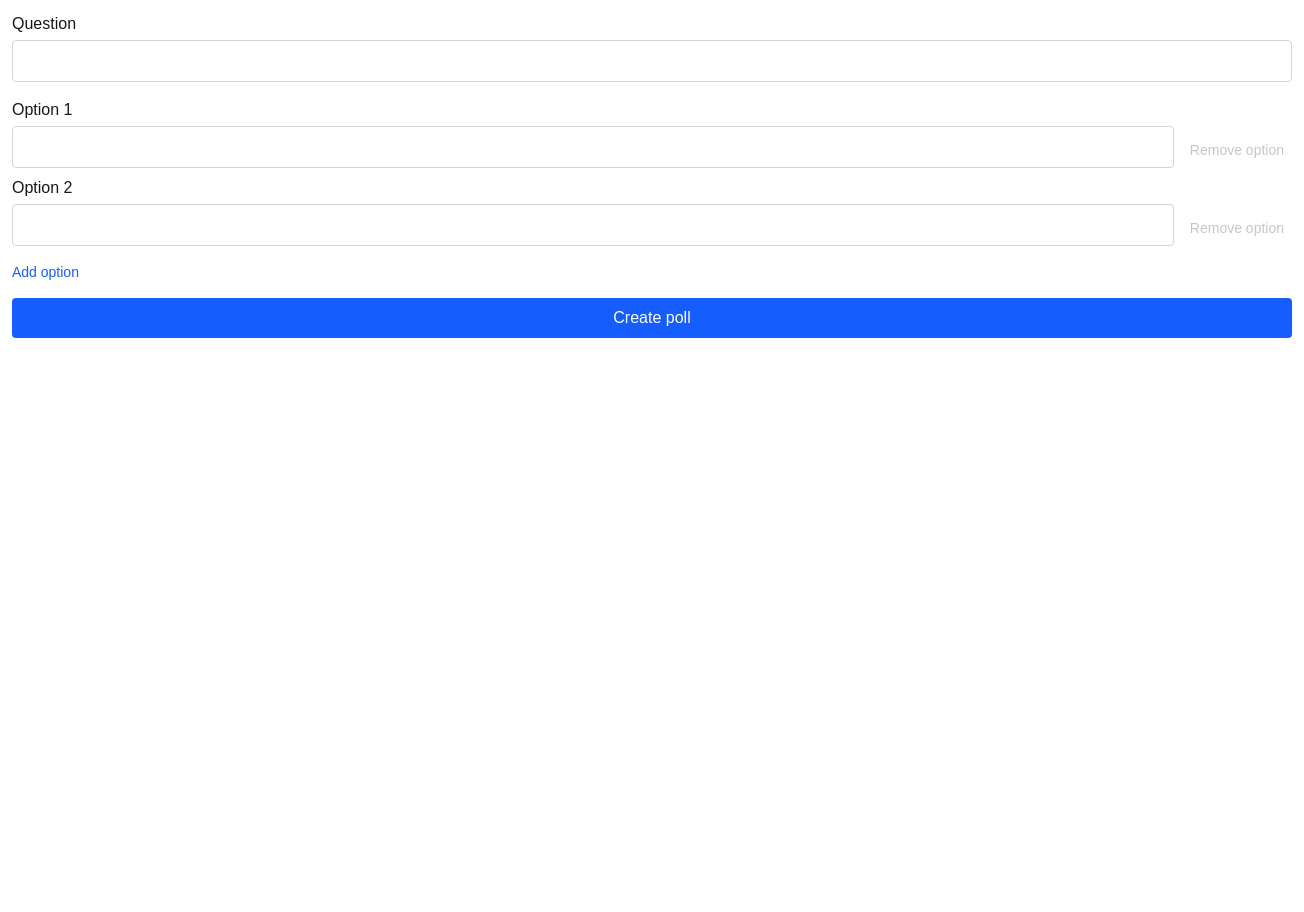
CreatePollForm › adds up to 8 options and then disables the add button
Click the button "Add option".
click(46, 272)  # box left=12, top=262, right=79, bottom=282
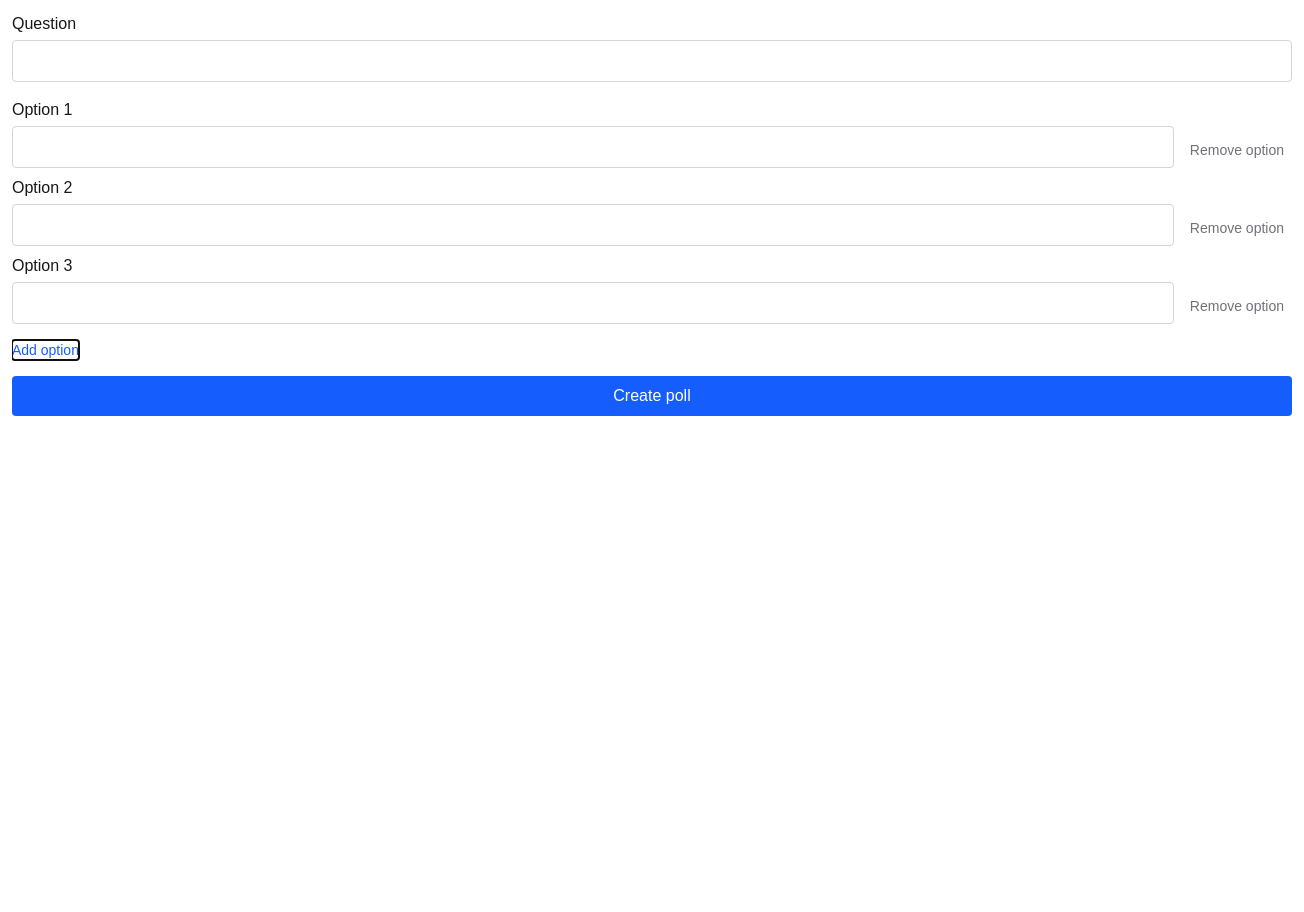
Click the button "Add option".
click(46, 350)  # box left=12, top=340, right=79, bottom=360
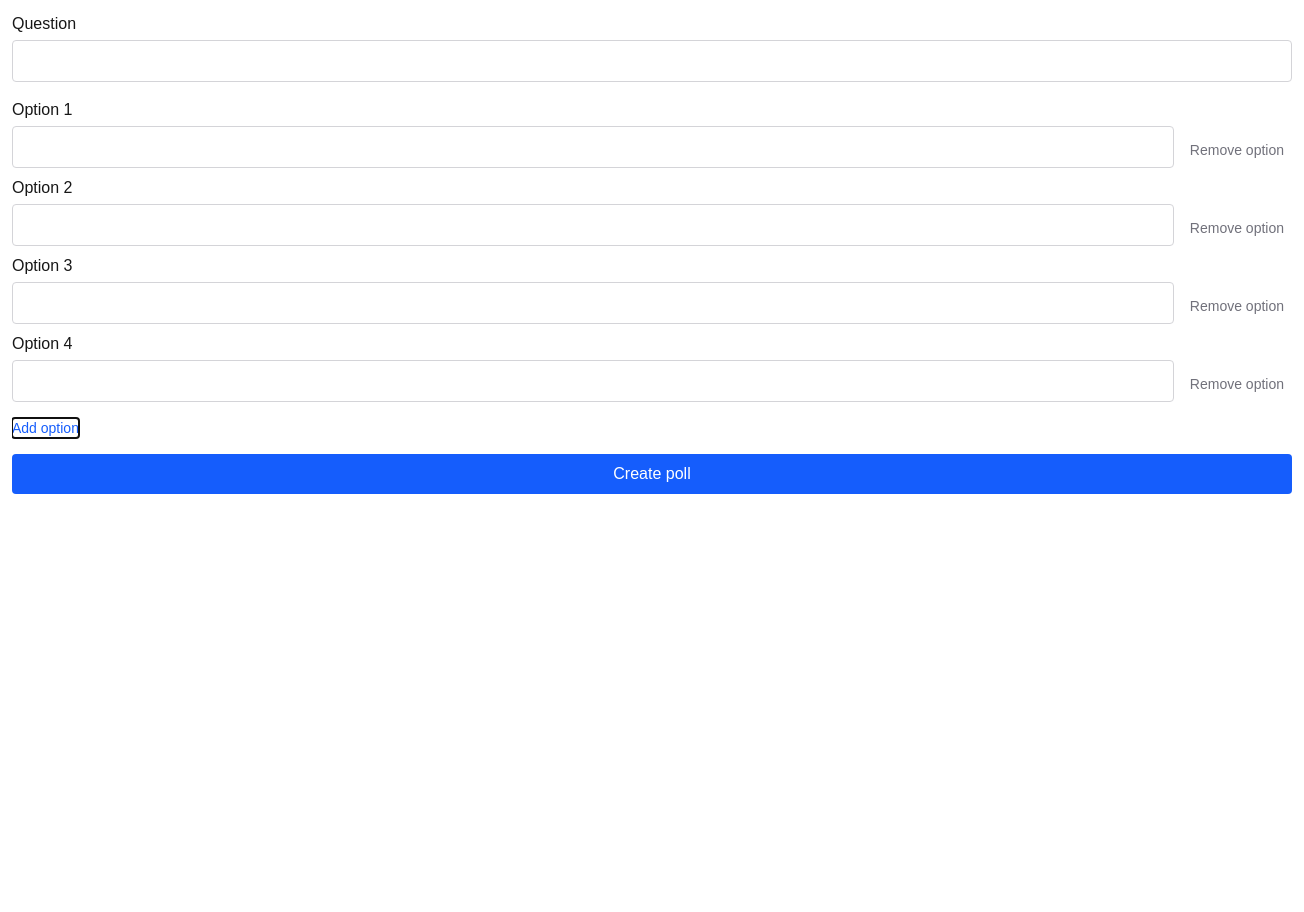
Click the button "Add option".
click(46, 428)  # box left=12, top=418, right=79, bottom=438
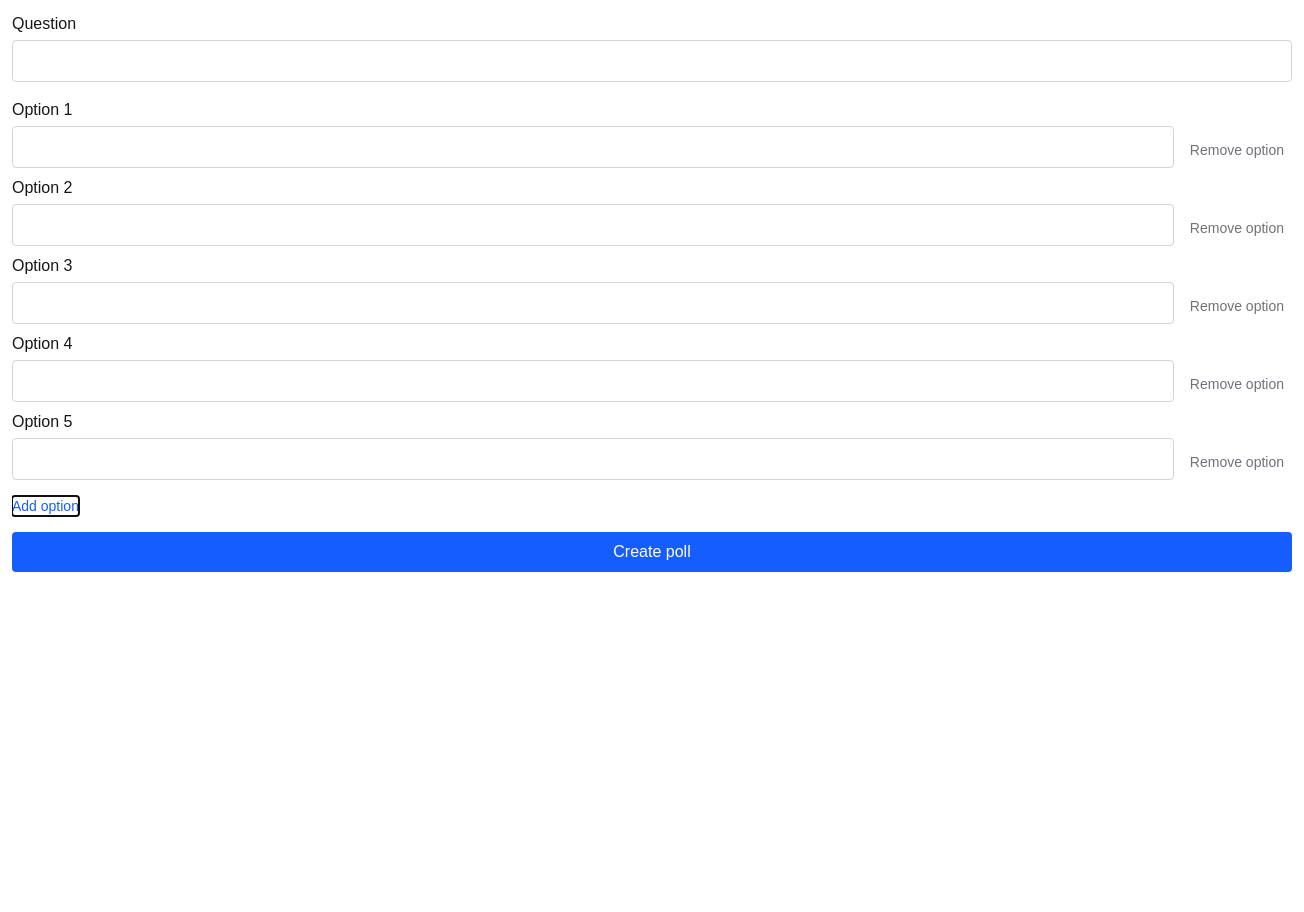
Click the button "Add option".
click(46, 506)  # box left=12, top=496, right=79, bottom=516
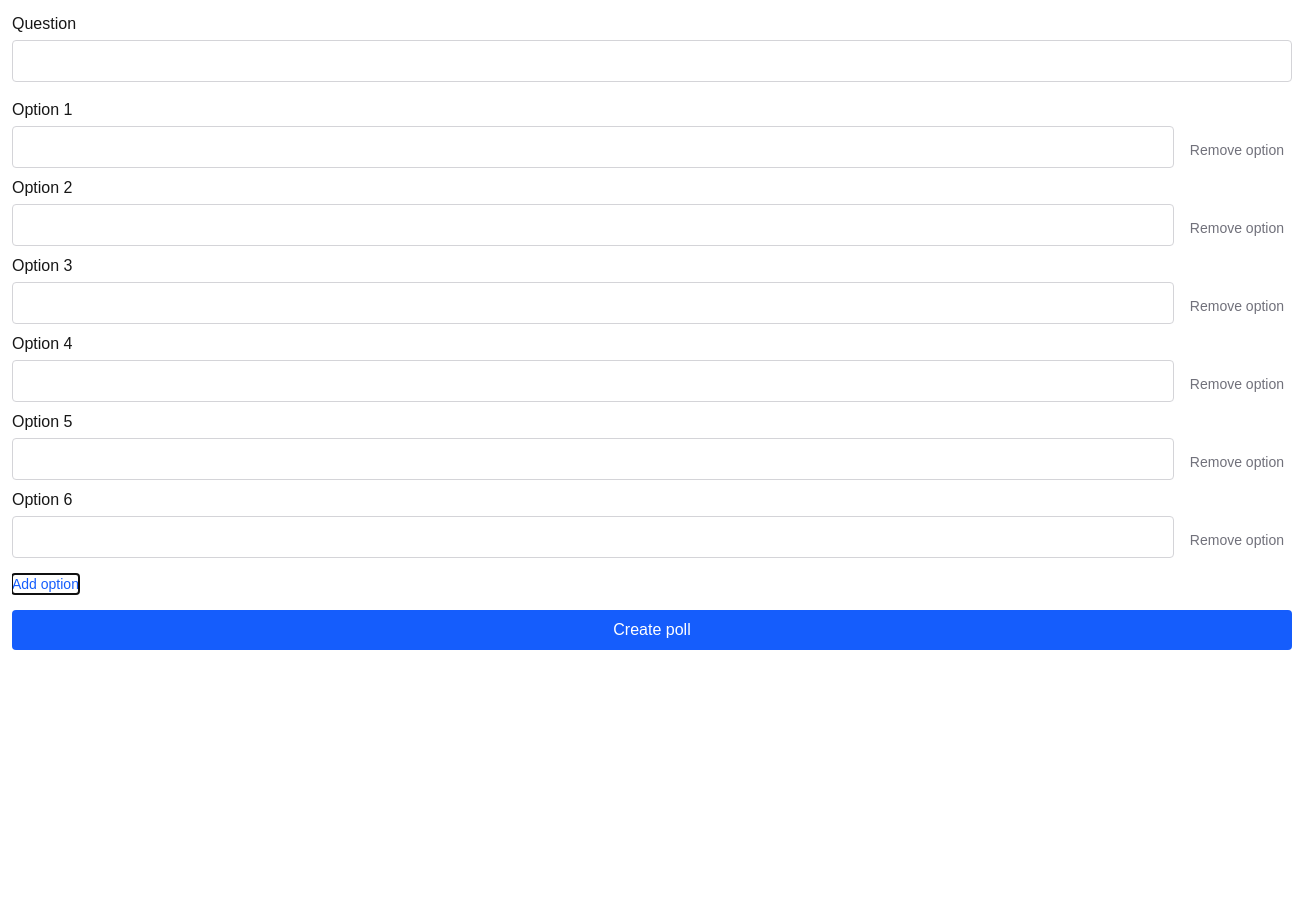
Click the button "Add option".
click(46, 584)  # box left=12, top=574, right=79, bottom=594
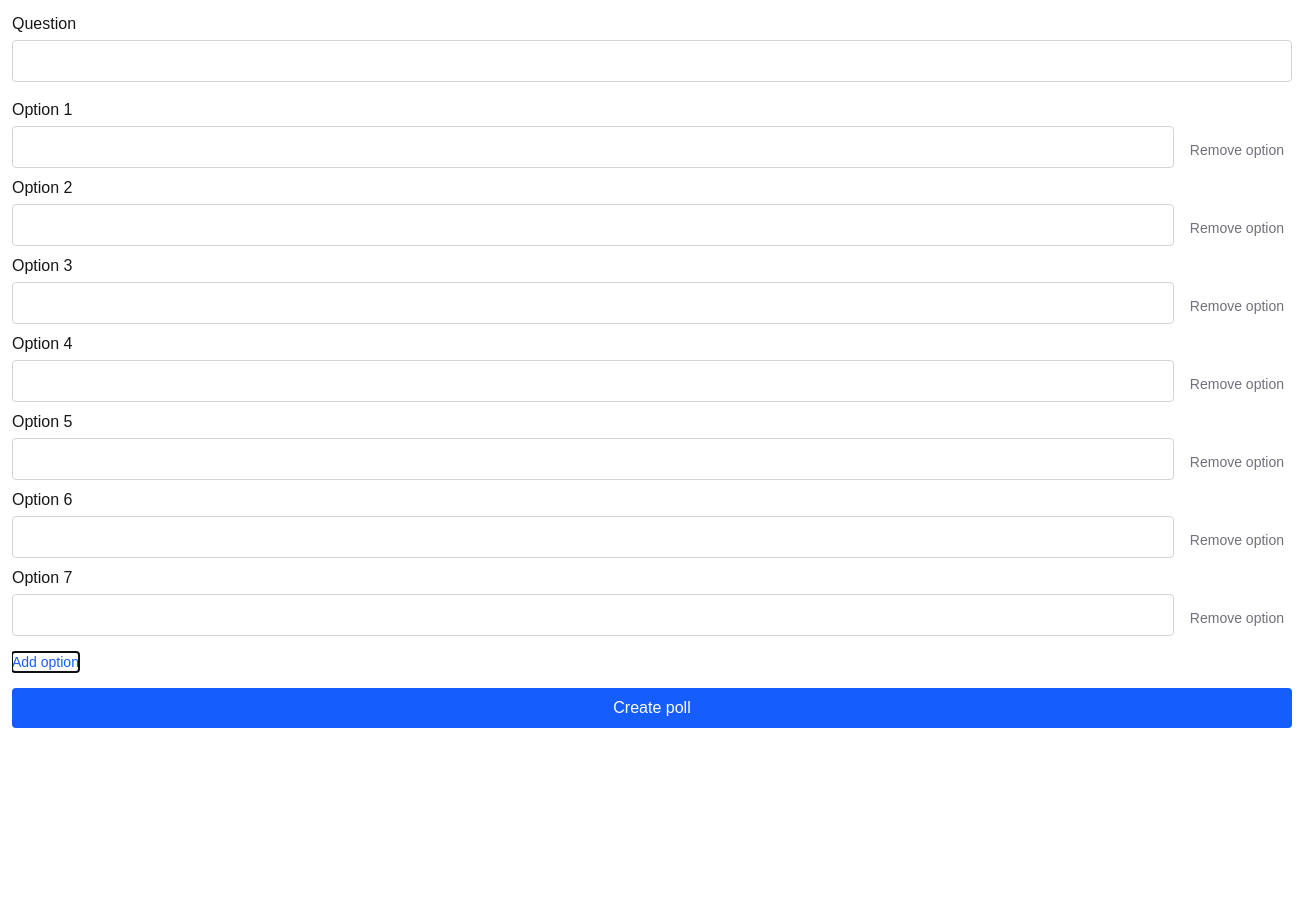
Click the button "Add option".
click(46, 662)  # box left=12, top=652, right=79, bottom=672
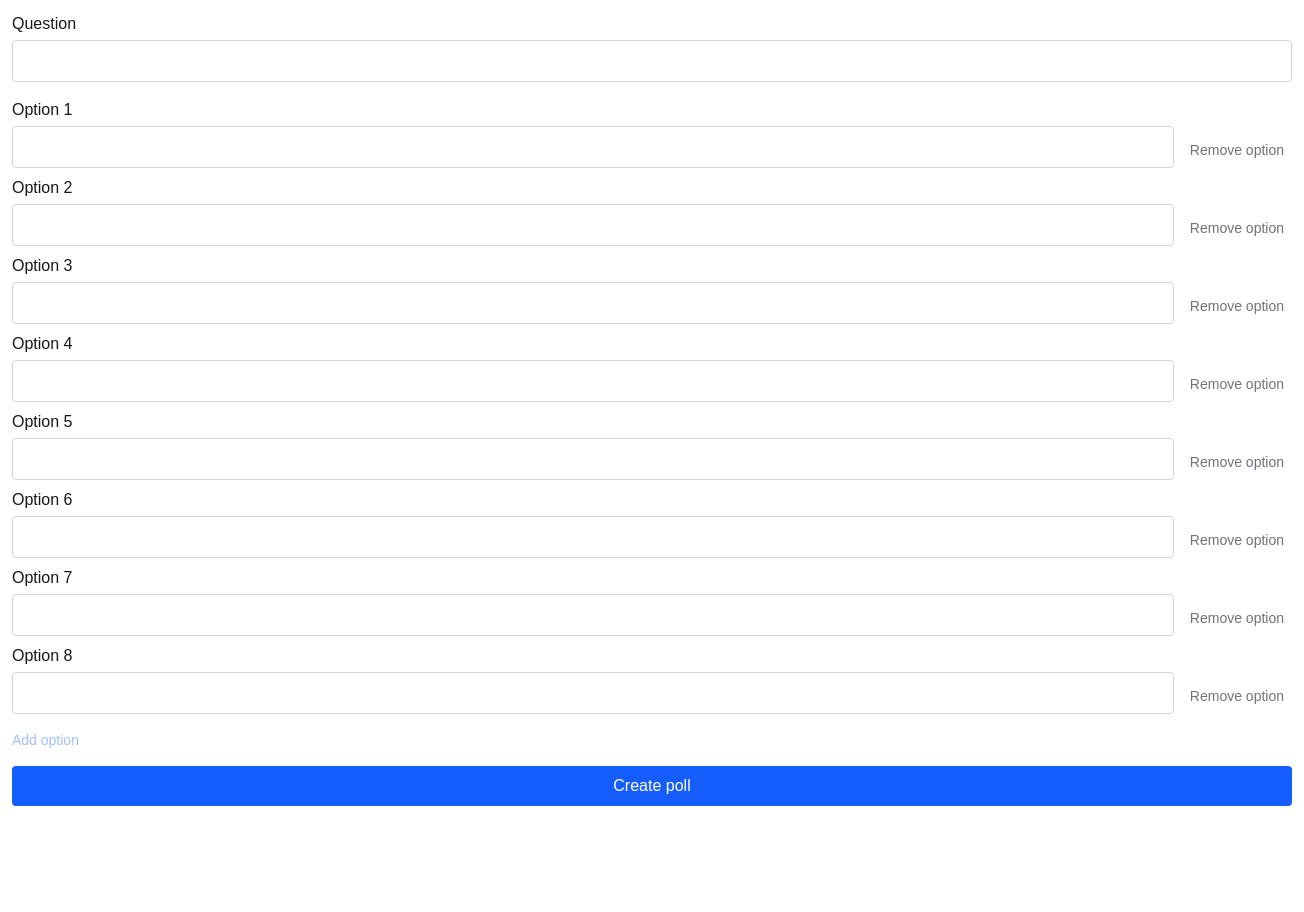
Check: the field labelled "Option 8" is shown, box left=12, top=672, right=1174, bottom=714
Check: the button "Add option" is disabled, box left=12, top=730, right=79, bottom=750
